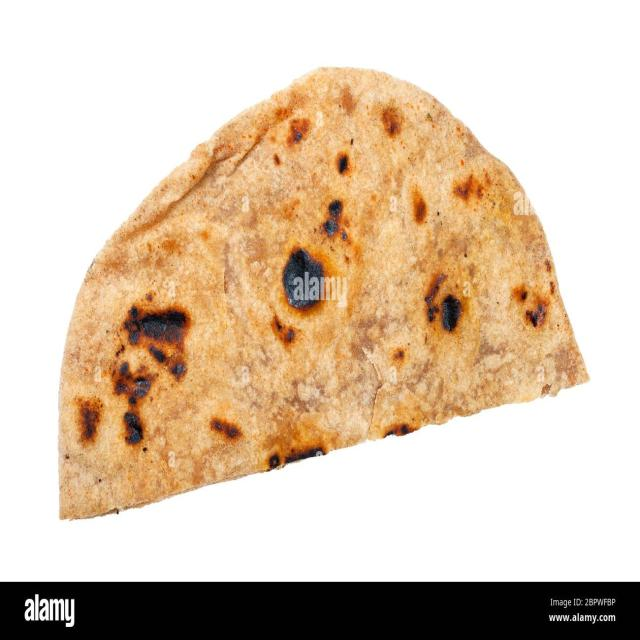ROTI: (54, 65, 580, 510)
